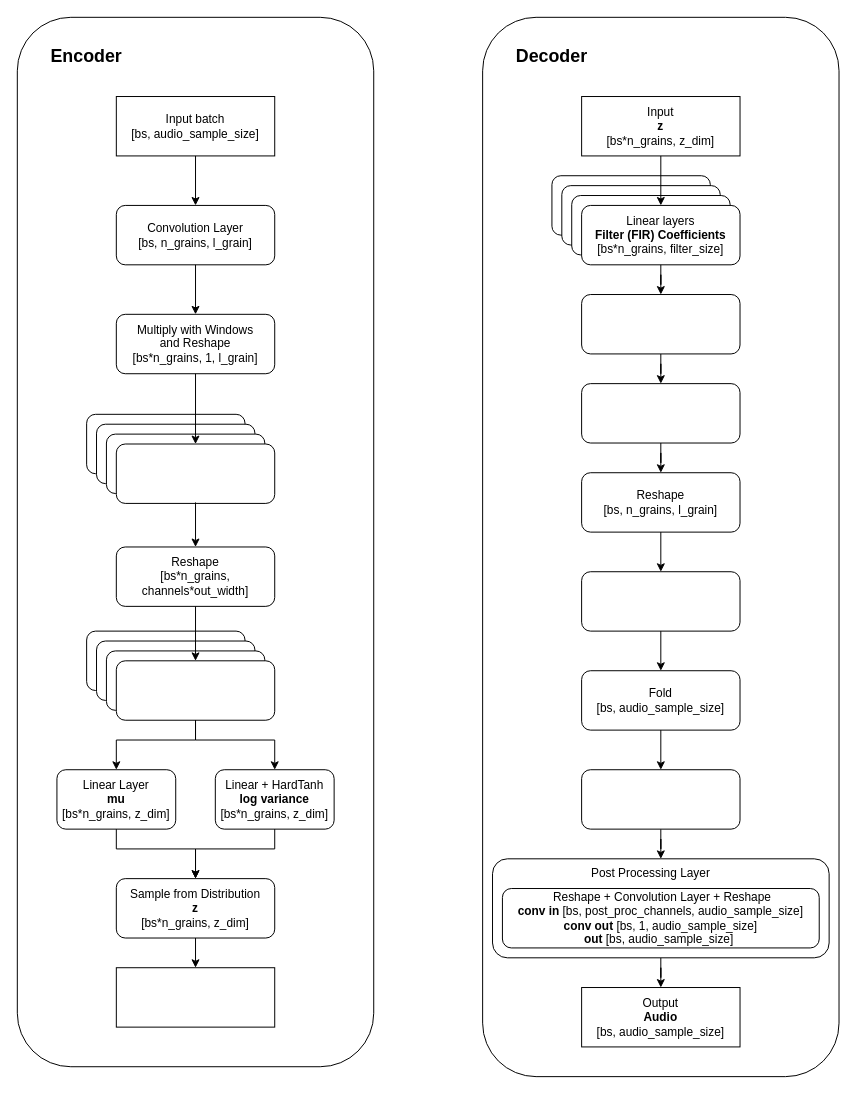
Some shapes in this 856 by 1094 pixel diagram are drawn without their labels. Here are the shapes that lost their labels. From the top down, the centre of each, then its label:
At pixel 660 324: "Modified Sigmoid [bs*n_grains, filter_size]".
At pixel 660 413: "Noise Filtering [bs*n_grains, l_grain]".
At pixel 195 473: "Stacked Dilated Conv Layers [bs*n_grains, channels, out_width]".
At pixel 660 601: "Multiply with Windows [bs, n_grains, l_grain]".
At pixel 195 690: "Linear Layers [bs*n_grains, z_dim]".
At pixel 660 799: "Normalize [bs, audio_sample_size]".
At pixel 195 997: "Output z [bs*n_grains, z_dim]".
